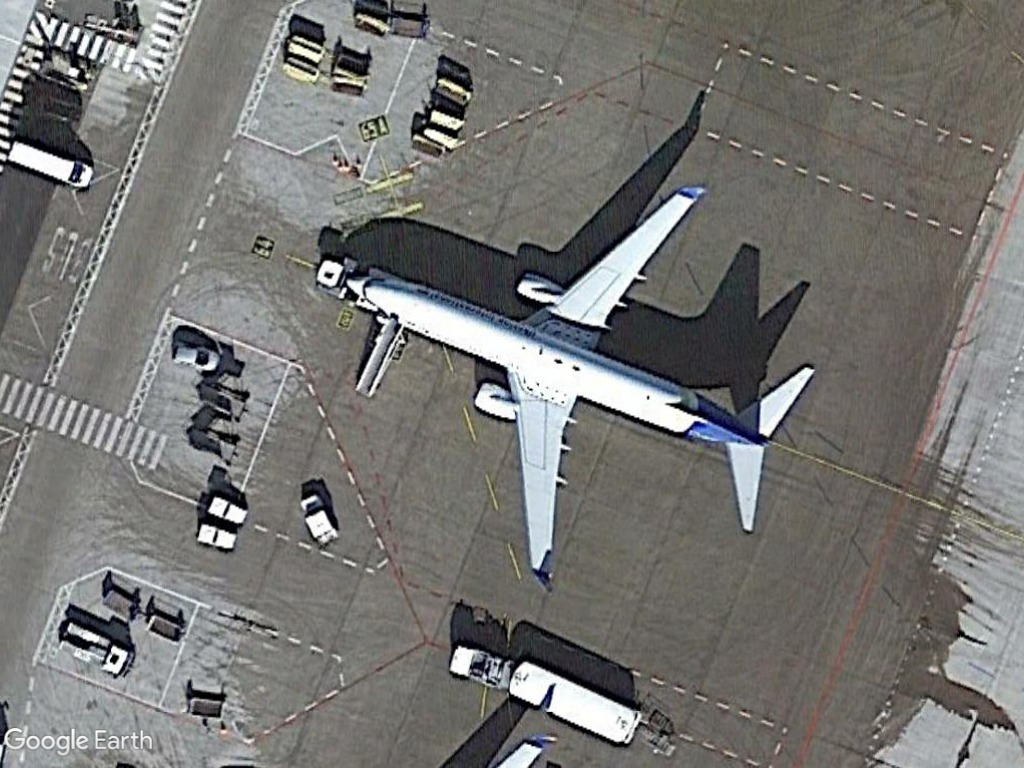airliner: (323, 166, 834, 602)
longvehicle: (443, 635, 645, 750)
pushbacktruck: (56, 618, 137, 682)
stairtruck: (343, 317, 409, 403)
van: (2, 136, 98, 193)
